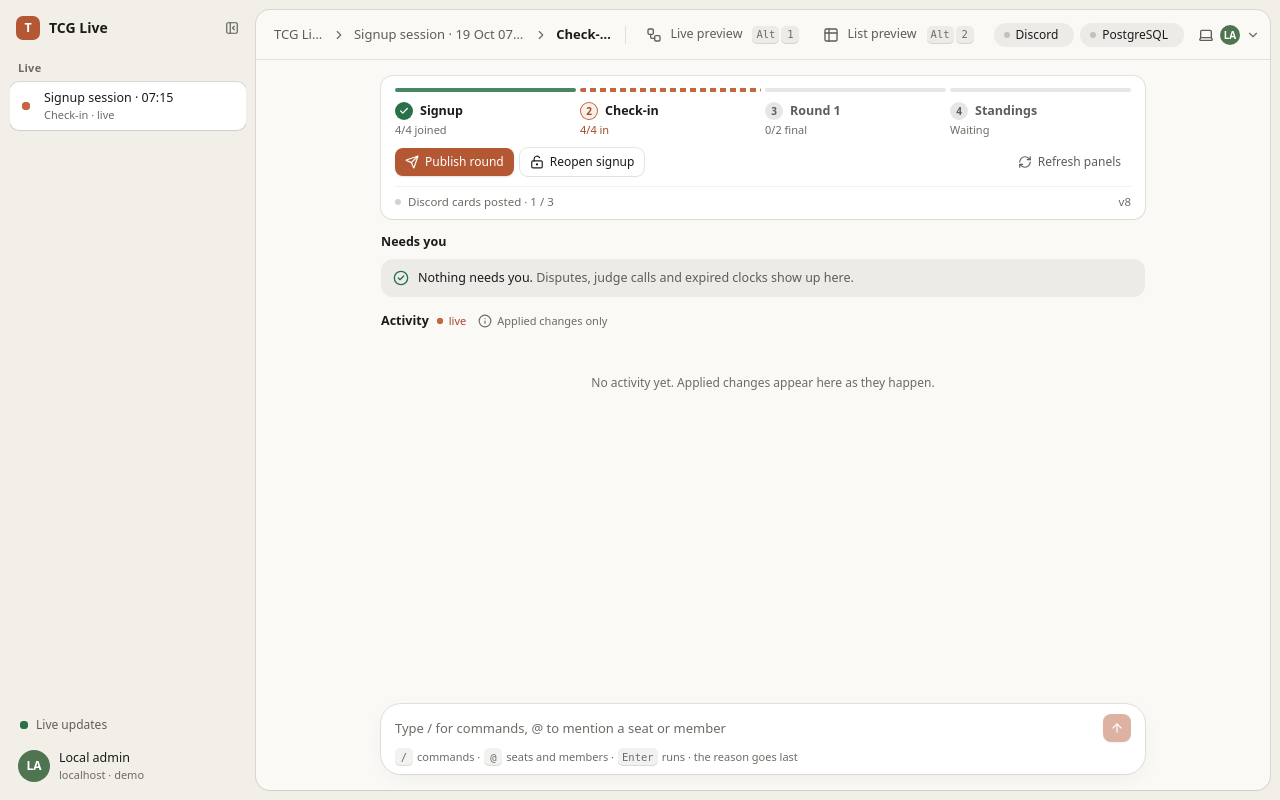
Scenario: stage stepper actions row › on 409 from a button caches the snapshot first, then the row follows the fresh adminActions
What coordinates should you click on to do the following:
click the button "Publish round"
I would click on:
 (454, 162)
Its box is [395, 148, 514, 176].
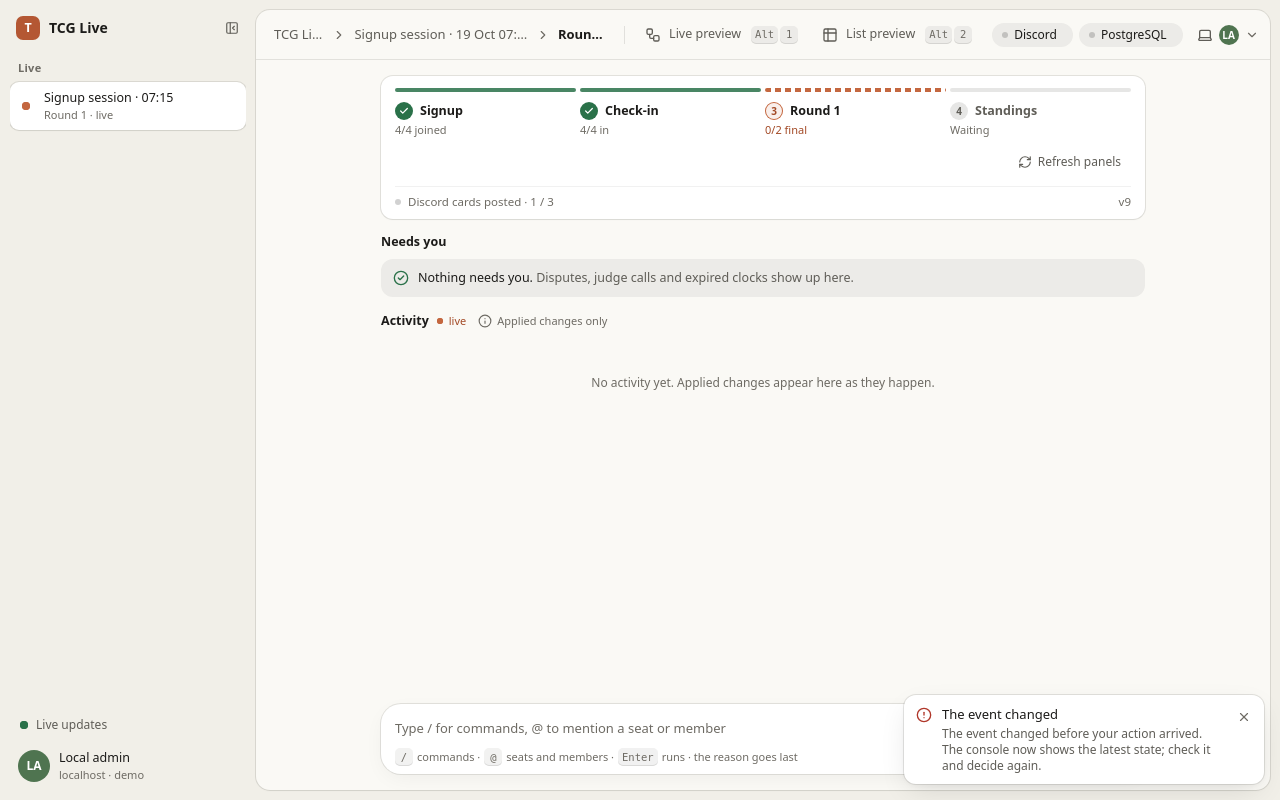
Check: the text "The event changed" is shown, box [942, 705, 1058, 723]
Check: the button "Publish round" is gone
